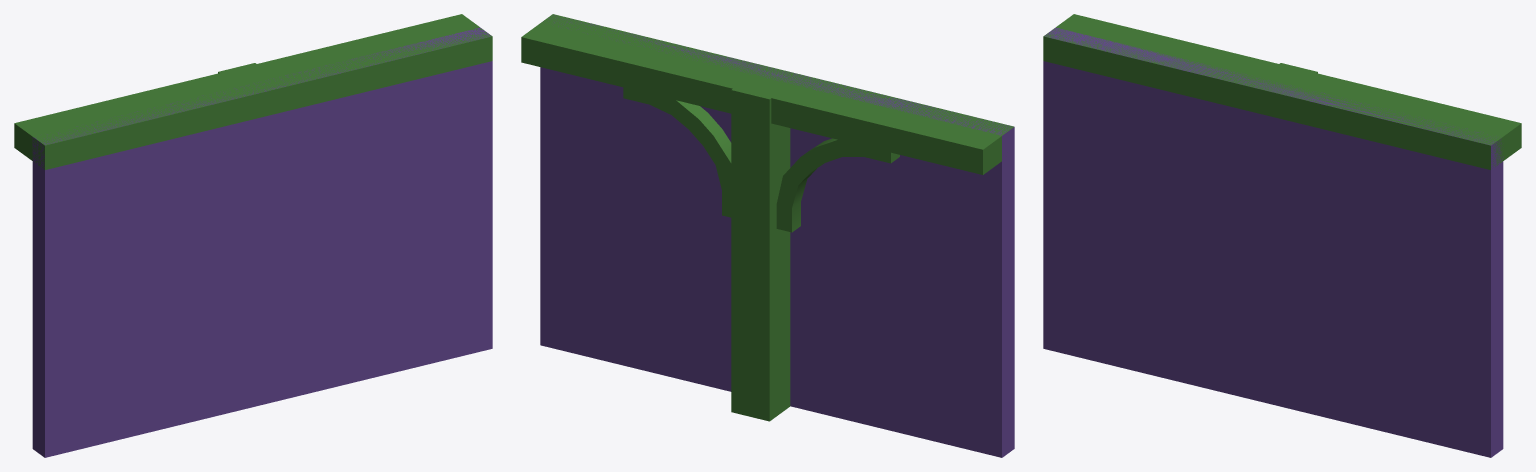
The model's file is MidWall.fbx.
The picture shows the model from 3 angles, left to right: view 1: azimuth 30°, elevation 25°; view 2: azimuth 150°, elevation 25°; view 3: azimuth 330°, elevation 25°; orthographic projection. The views are drawn at different scales.
Visible parts, largest first — view 1: Wall, Rafter; view 2: Wall, Rafter, Pillar, WallDecor1, WallDecor3; view 3: Wall, Rafter.
Boxes of the visible parts, x1=… form: Wall: x1=32, y1=27, x2=492, y2=457; Rafter: x1=14, y1=14, x2=492, y2=169; Wall: x1=540, y1=15, x2=1014, y2=457; Rafter: x1=521, y1=14, x2=1013, y2=174; Pillar: x1=731, y1=76, x2=790, y2=421; WallDecor1: x1=776, y1=138, x2=899, y2=232; WallDecor3: x1=623, y1=87, x2=731, y2=217; Wall: x1=1043, y1=27, x2=1503, y2=457; Rafter: x1=1043, y1=14, x2=1521, y2=169.
Size of the model in its own units: 12 by 8 by 1.5.
